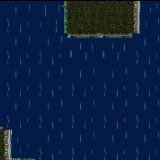Interaction: (0, 120, 13, 160), (0, 150, 39, 160)
Slow: (0, 38, 160, 128), (13, 129, 159, 160), (0, 0, 62, 36), (140, 0, 160, 38)
